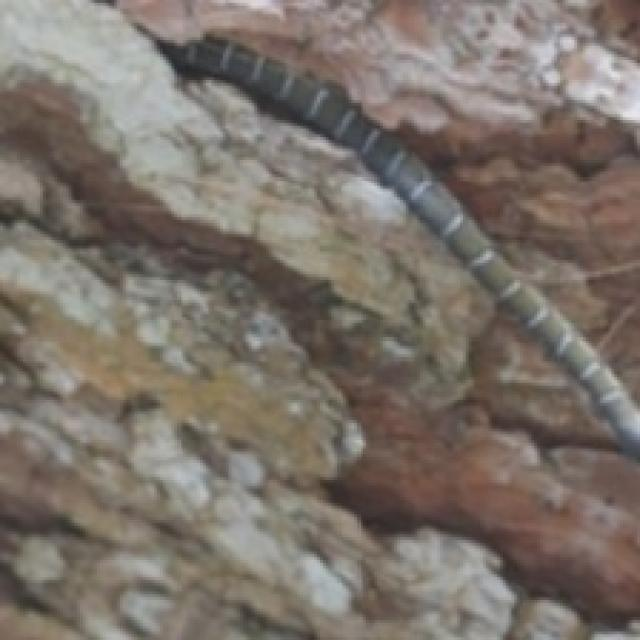reddish rat snake: (158, 41, 640, 459)
